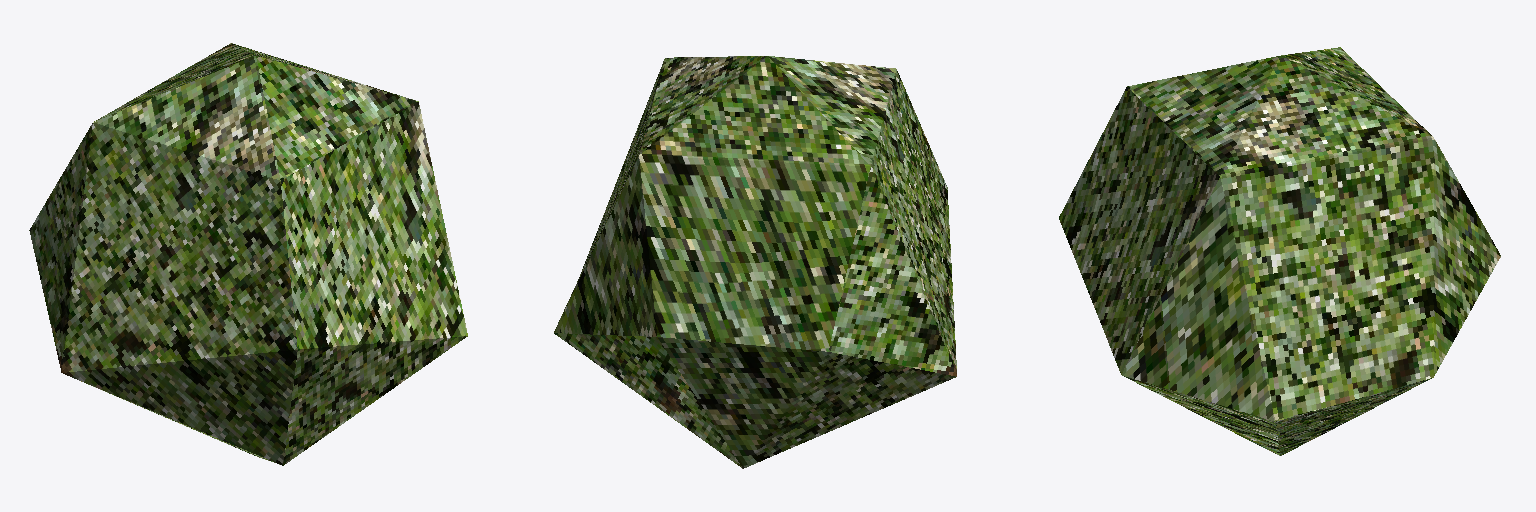
3 renders of one model, left to right at view 1: azimuth 30°, elevation 25°; view 2: azimuth 150°, elevation 25°; view 3: azimuth 270°, elevation 25°, orthographic.
Parts seen in each view (by area): view 1: Cube_Cube.001; view 2: Cube_Cube.001; view 3: Cube_Cube.001.
Boxes of the visible parts, x1=… form: Cube_Cube.001: x1=29, y1=43, x2=467, y2=465; Cube_Cube.001: x1=554, y1=56, x2=956, y2=468; Cube_Cube.001: x1=1059, y1=47, x2=1500, y2=455.
Size of the model in its own units: 2.01 by 2 by 2.
Materials: 1 (1 with a texture image).